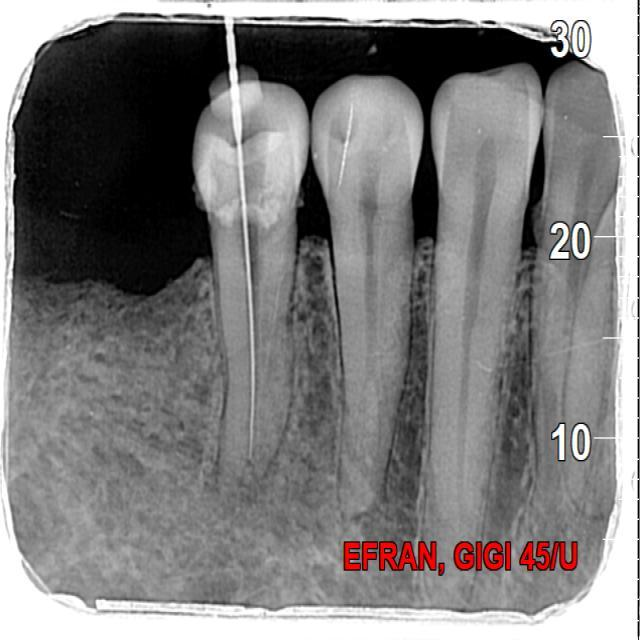individual-tooth-8tto: (418, 57, 549, 596), (309, 71, 423, 518), (197, 85, 310, 490)
